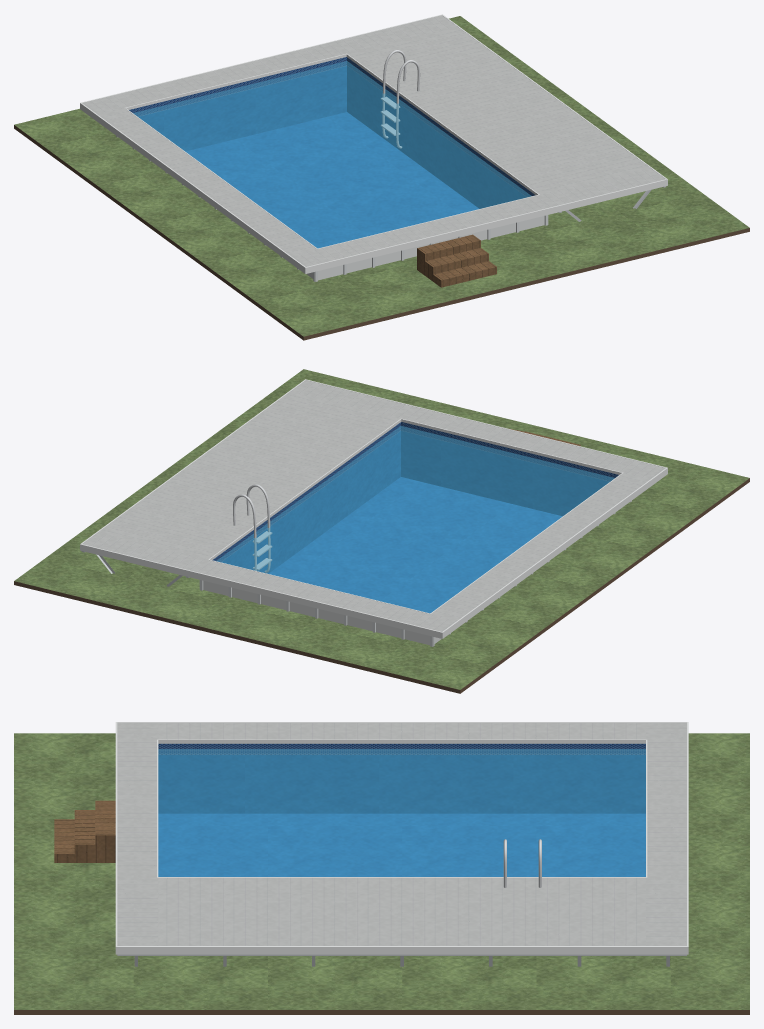
File: kayak-pool-16x24-white-side-rec-nofence.01e67be703.glb
3 views of the same model, one above another, from view 1: azimuth 30°, elevation 25°; view 2: azimuth 150°, elevation 25°; view 3: azimuth 270°, elevation 25° (orthographic). The views are drawn at different scales.
Parts seen in each view (by area): view 1: ground, water, deck, liner_floor, liner_wall, fascia, soil, steps, wall, steel; view 2: ground, water, deck, liner_floor, liner_wall, fascia, soil, wall, steel; view 3: ground, water, deck, liner_wall, liner_floor, fascia, soil, steps, stud.
Part boxes in pixels (x1,y1,x2,y2): ground: (14, 16, 749, 336); water: (133, 61, 531, 248); deck: (82, 15, 665, 266); liner_floor: (185, 112, 478, 248); liner_wall: (129, 57, 535, 208); fascia: (80, 14, 667, 273); soil: (14, 125, 749, 340); steps: (417, 234, 496, 287); wall: (306, 216, 544, 280); steel: (380, 50, 420, 148); ground: (14, 369, 749, 689); water: (216, 426, 614, 613); deck: (82, 380, 665, 631); liner_floor: (269, 477, 562, 613); liner_wall: (212, 422, 618, 573); fascia: (80, 379, 667, 638); soil: (14, 478, 749, 693); wall: (203, 580, 441, 645); steel: (233, 484, 272, 572); ground: (14, 733, 749, 1009); water: (158, 749, 645, 876); deck: (117, 723, 686, 945); liner_wall: (158, 743, 645, 813); liner_floor: (158, 813, 645, 876); fascia: (115, 722, 688, 954); soil: (14, 1010, 749, 1014); steps: (54, 800, 115, 862); stud: (117, 954, 686, 966).
Bounding box in the file's own units: 9.75 × 1.9 × 10.97.
12 materials, 5 textured.
